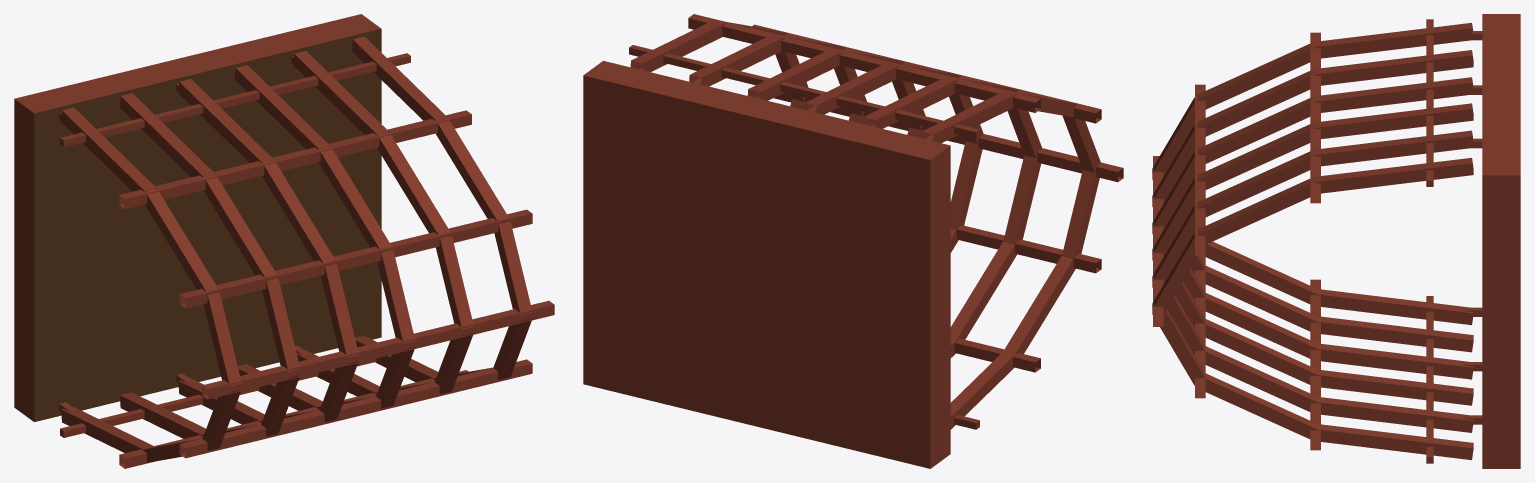
The model's file is middle.glb.
3 renders of one model, left to right at view 1: azimuth 30°, elevation 25°; view 2: azimuth 150°, elevation 25°; view 3: azimuth 270°, elevation 25°, orthographic. The views are drawn at different scales.
Parts seen in each view (by area): view 1: bridge_10_middle; view 2: bridge_10_middle; view 3: bridge_10_middle.
Boxes of the visible parts, x1=… form: bridge_10_middle: x1=14, y1=14, x2=554, y2=468; bridge_10_middle: x1=583, y1=14, x2=1123, y2=468; bridge_10_middle: x1=1152, y1=14, x2=1520, y2=468.
Size of the model in its own units: 16 by 13.75 by 15.44.
